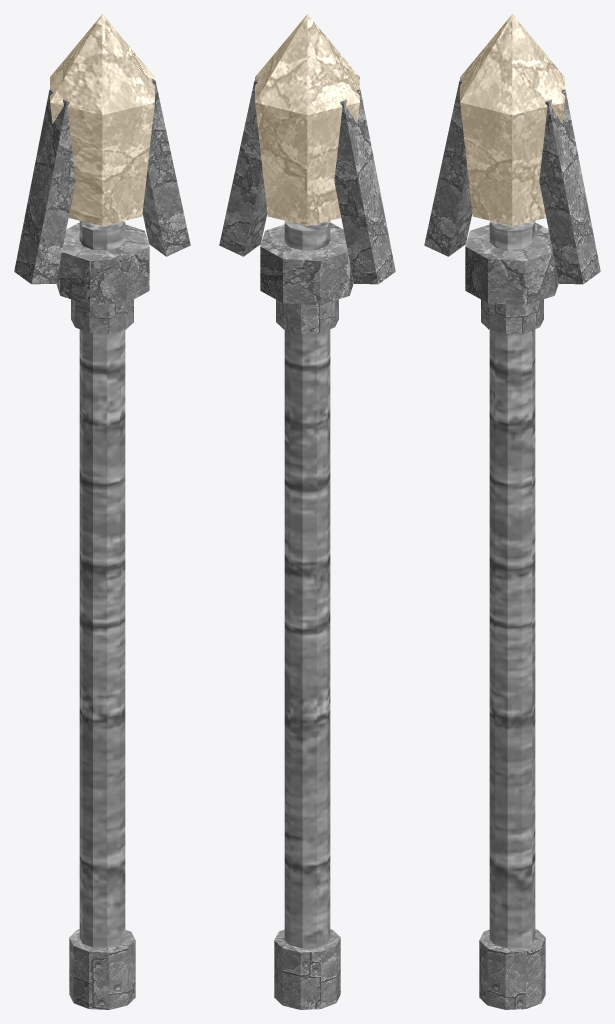
Rendered from Magenheim_Staff_Earth_Simple.glb.
The picture shows the model from 3 angles, left to right: view 1: azimuth 30°, elevation 25°; view 2: azimuth 150°, elevation 25°; view 3: azimuth 330°, elevation 25°; orthographic projection.
Parts seen in each view (by area): view 1: shaft, earth-focus, left-brace, stone-collar, pommel, right-brace, neck; view 2: shaft, earth-focus, left-brace, stone-collar, pommel, right-brace, neck; view 3: shaft, earth-focus, right-brace, stone-collar, pommel, left-brace, neck.
Part boxes in pixels (x1=…): shaft: x1=79, y1=221, x2=125, y2=948; earth-focus: x1=50, y1=14, x2=154, y2=225; left-brace: x1=14, y1=89, x2=75, y2=284; stone-collar: x1=56, y1=223, x2=149, y2=305; pommel: x1=69, y1=929, x2=135, y2=1009; right-brace: x1=142, y1=78, x2=190, y2=256; neck: x1=71, y1=299, x2=133, y2=333; shaft: x1=284, y1=221, x2=330, y2=948; earth-focus: x1=255, y1=14, x2=359, y2=225; left-brace: x1=334, y1=89, x2=395, y2=284; stone-collar: x1=260, y1=223, x2=353, y2=305; pommel: x1=274, y1=929, x2=340, y2=1009; right-brace: x1=219, y1=78, x2=267, y2=256; neck: x1=276, y1=299, x2=338, y2=333; shaft: x1=489, y1=221, x2=535, y2=948; earth-focus: x1=460, y1=14, x2=564, y2=225; right-brace: x1=539, y1=89, x2=600, y2=284; stone-collar: x1=465, y1=223, x2=558, y2=305; pommel: x1=479, y1=929, x2=545, y2=1009; left-brace: x1=424, y1=78, x2=472, y2=256; neck: x1=481, y1=299, x2=543, y2=333.
Bounding box in the file's own units: 0.3196 × 1.88 × 0.1819.
Materials: 4 (4 with a texture image).
